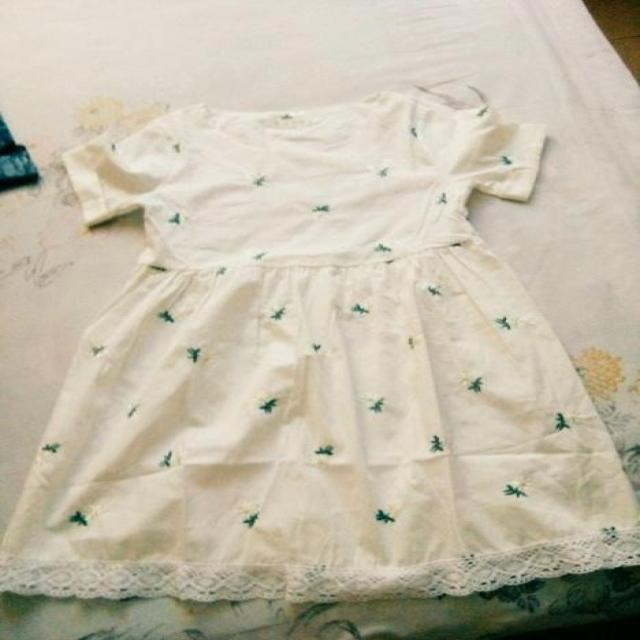short sleeve dress: (0, 93, 635, 598)
